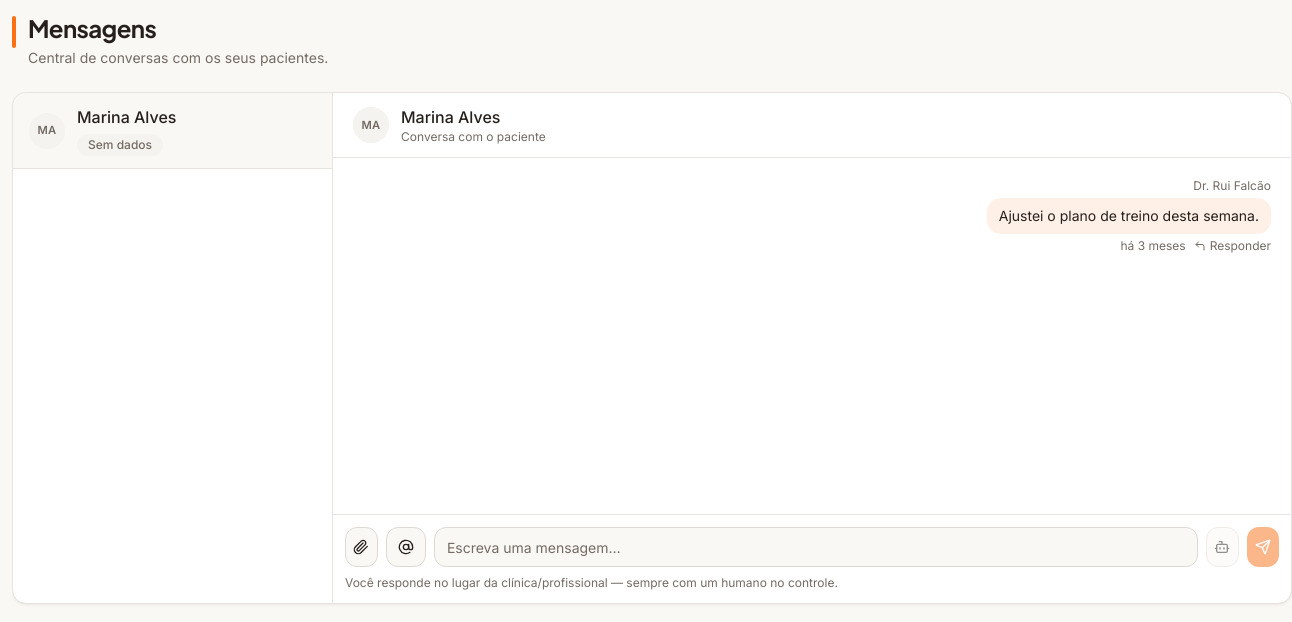
Test: MessagesPage — o seletor de @ e a bolha, no MESMO render › a citação usa a MESMA fonte de nome que a bolha
Click the button with aria-label "Responder à mensagem de Dr. Rui Falcão" at (1232, 246), box [1194,238,1271,254]
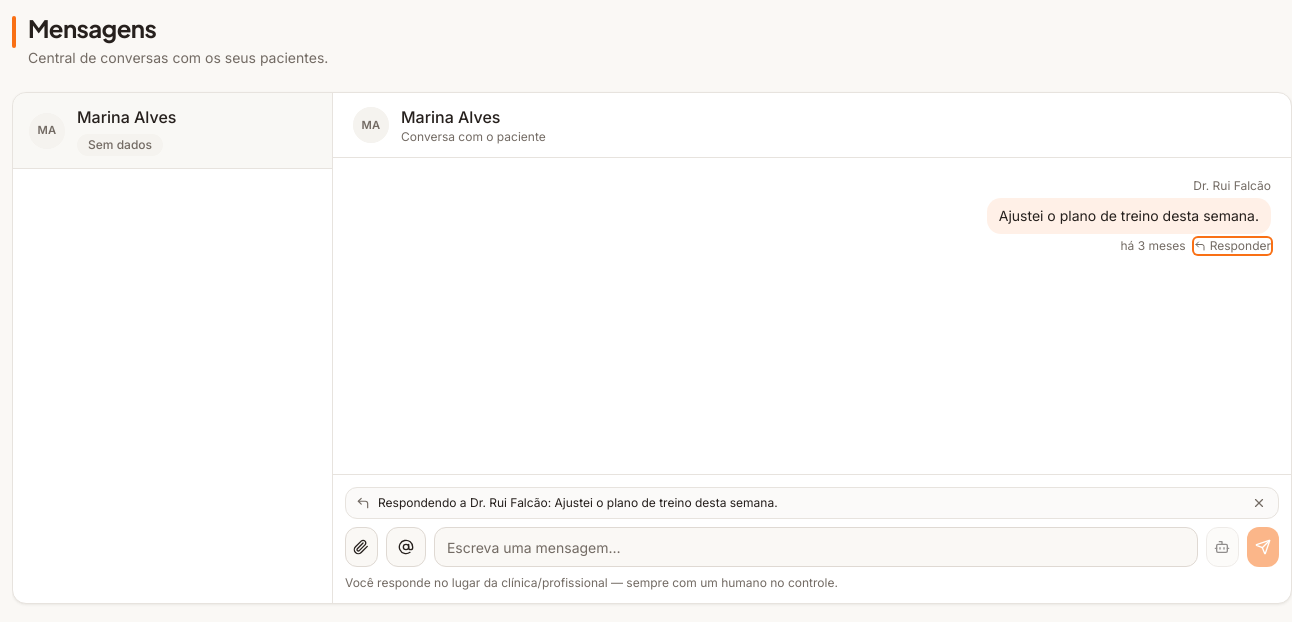
Result: the text "Respondendo a Dr. Rui Falcão" is shown at [378,495,778,510]
